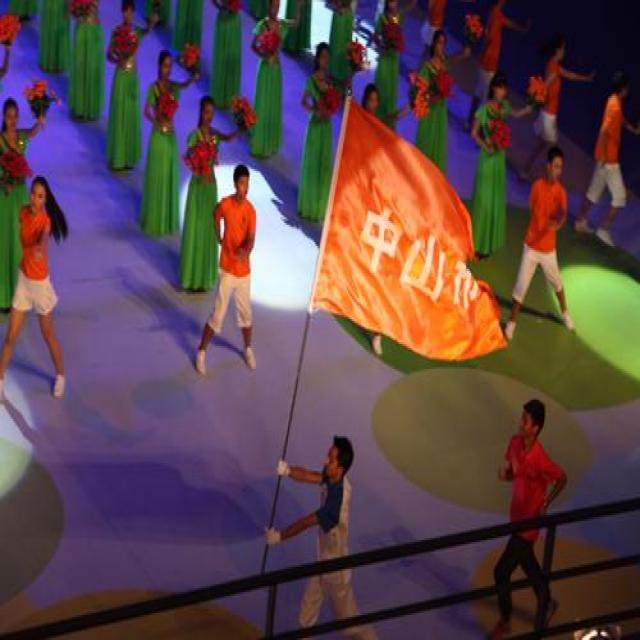non-fight: (0, 167, 86, 406)
